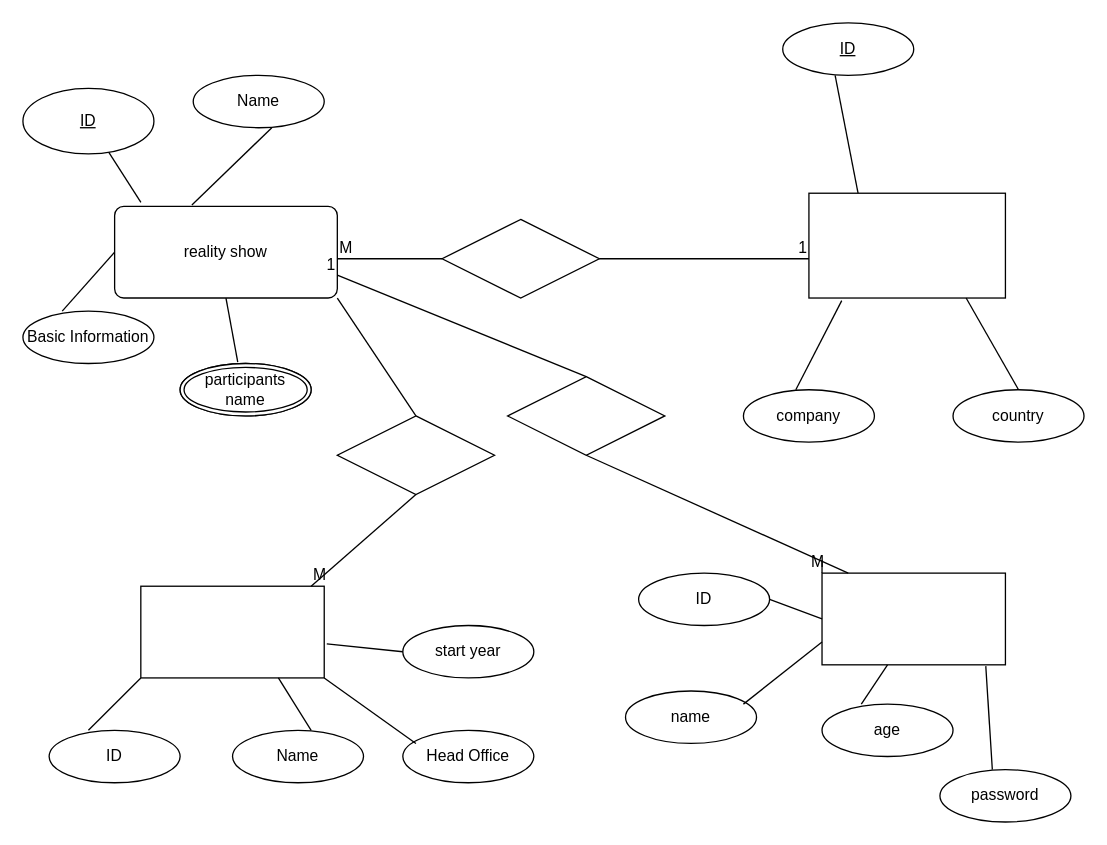
The diagram is 1107 pixels wide and 845 high, and some of its shapes have lost their labels. Each missing label, with the centre of its shape:
belongs: the point at 415,455
produce: the point at 520,258
Producer: the point at 906,245
Rated _by: the point at 585,415
TV channel: the point at 232,631
user: the point at 913,618
